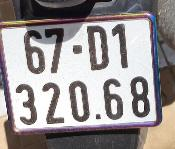0: (65, 74, 93, 123)
1: (111, 22, 136, 71)
2: (41, 79, 66, 124)
3: (13, 81, 39, 131)
6: (98, 75, 128, 124), (21, 28, 50, 76)
7: (43, 22, 67, 78)
8: (129, 76, 153, 123)
D: (79, 19, 113, 73)
